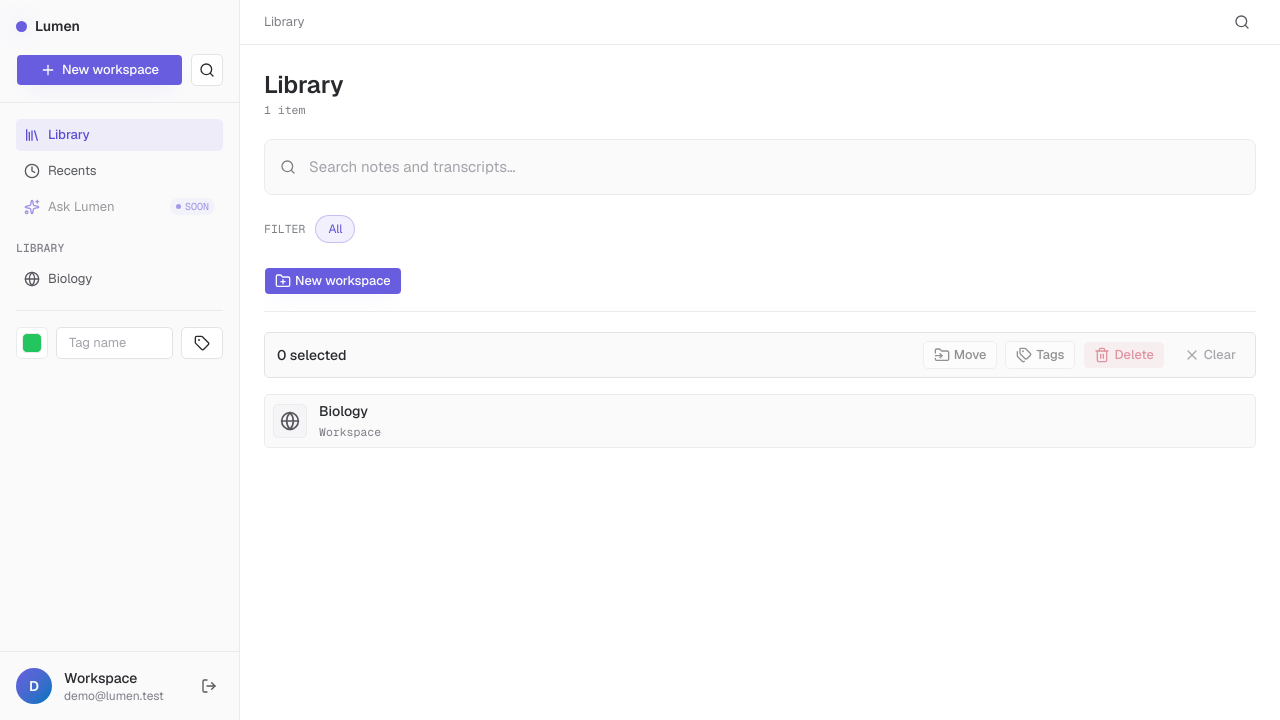
Scenario: LibraryWorkspace node routes › adds a created tag without refetching the full library snapshot
Type "Focus" into the field labelled "Tag name". click: (114, 342)
box: left=56, top=326, right=173, bottom=358
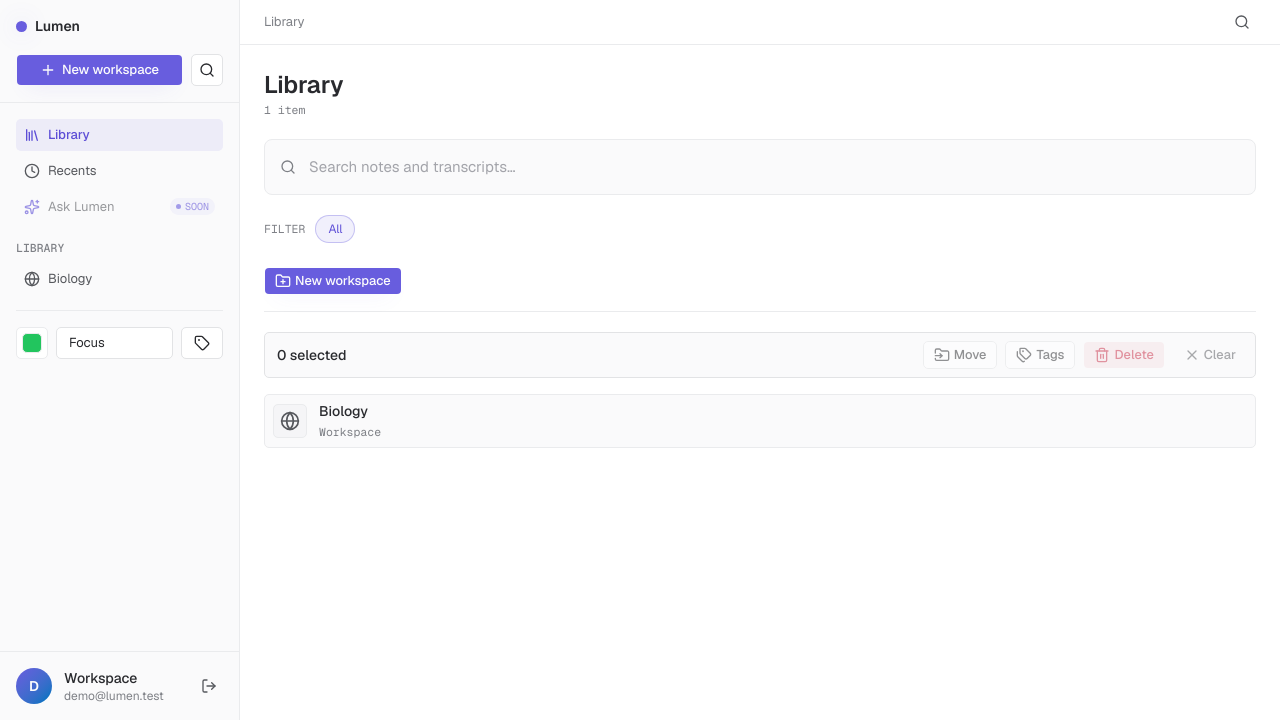
Click the button named "Create tag". click: (202, 342)
box: left=181, top=326, right=223, bottom=358
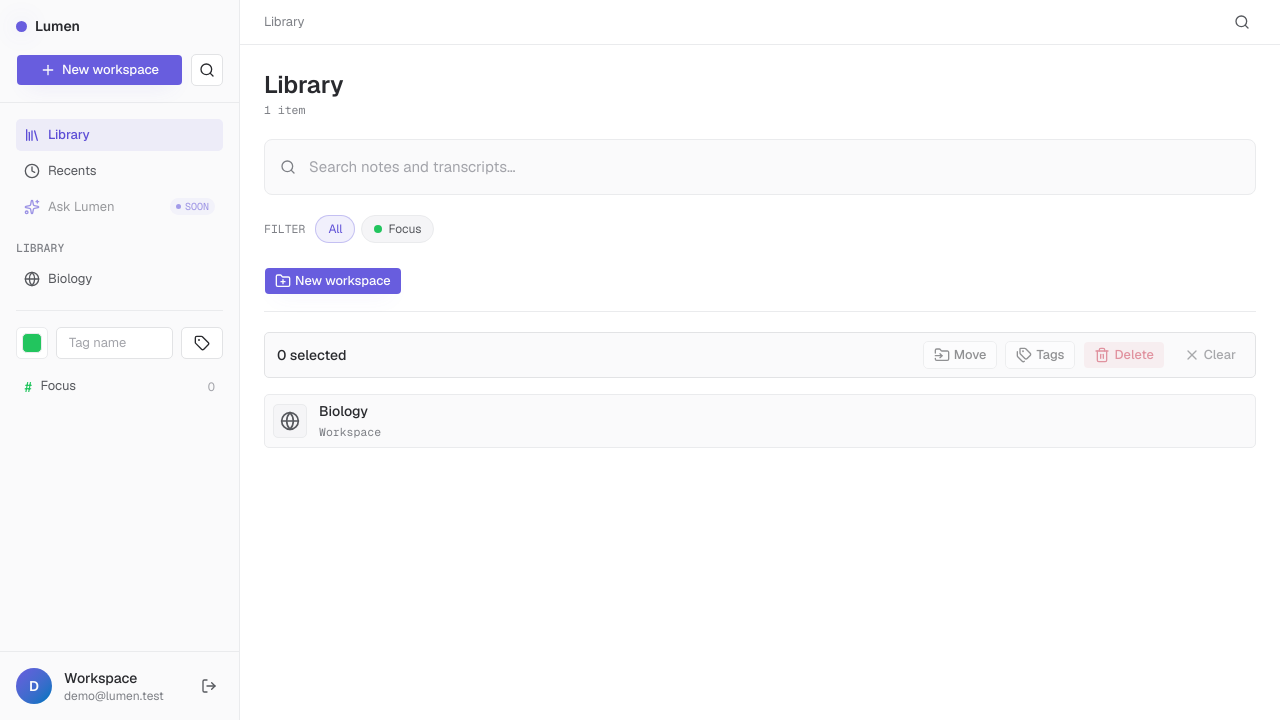
Expected: the button with aria-label "Filter by Focus" is shown, left=16, top=370, right=223, bottom=402
